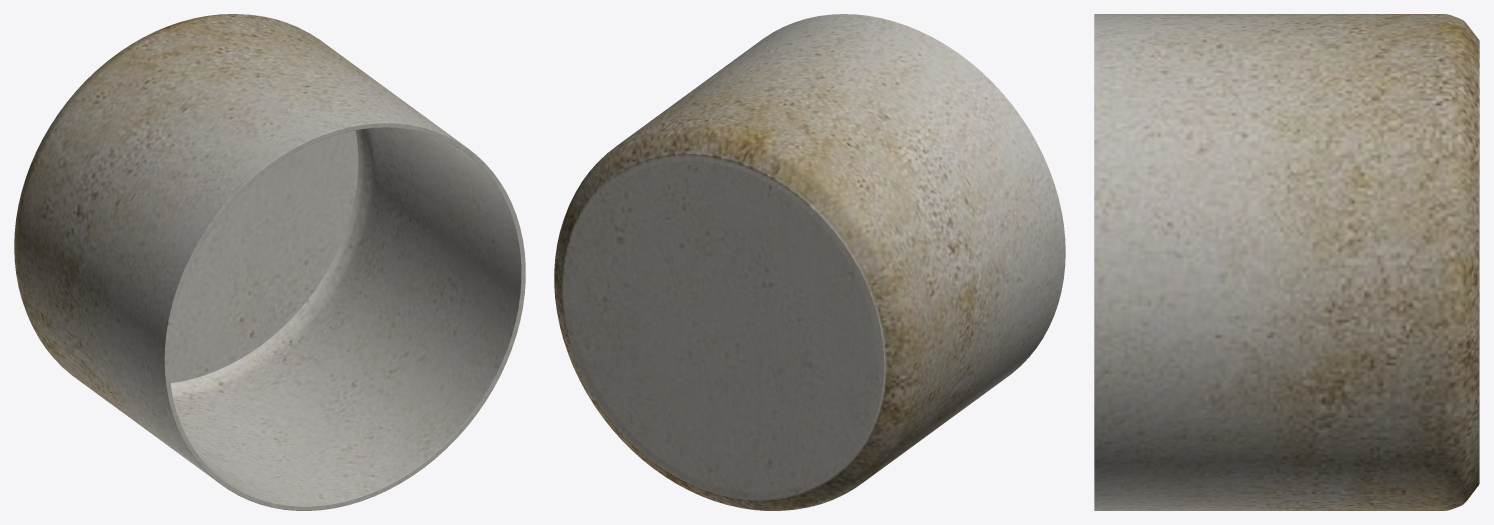
Rendered from CactusFlowerpot.obj.
The picture shows the model from 3 angles, left to right: view 1: azimuth 30°, elevation 25°; view 2: azimuth 150°, elevation 25°; view 3: azimuth 270°, elevation 25°; orthographic projection. The views are drawn at different scales.
Visible parts, largest first — view 1: CactusFlowerpot; view 2: CactusFlowerpot; view 3: CactusFlowerpot.
Boxes of the visible parts, <box> form: CactusFlowerpot: <box>14,14,525,510</box>; CactusFlowerpot: <box>554,14,1065,510</box>; CactusFlowerpot: <box>1094,14,1479,510</box>.
Size of the model in its own units: 0.2332 by 0.2332 by 0.1809.
Materials: 1 (1 with a texture image).
